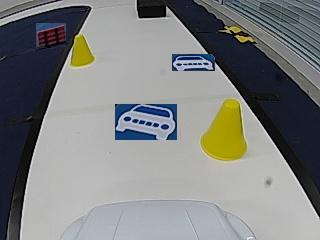block: (136, 0, 165, 18)
cone: (200, 100, 248, 161), (72, 35, 95, 68)
